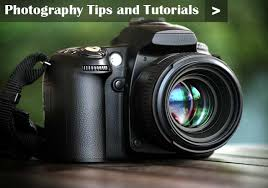camera: (46, 20, 243, 170)
